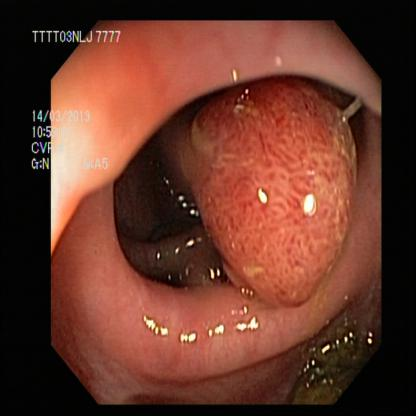Labels: (31, 29, 127, 58)
Polyps: (191, 98, 346, 303), (30, 106, 120, 180)
